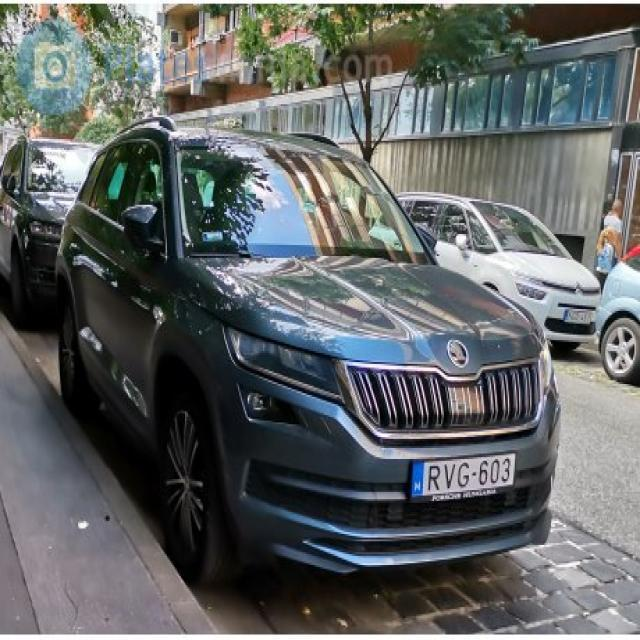licence: (405, 451, 520, 502)
